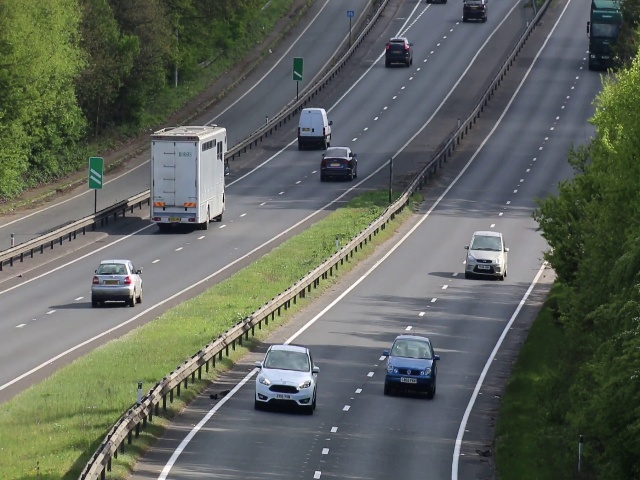car: (150, 124, 228, 230), (253, 343, 317, 411), (384, 331, 436, 400), (88, 258, 145, 308), (465, 229, 507, 281), (588, 3, 617, 69), (296, 108, 333, 149), (321, 145, 358, 183), (385, 37, 413, 68), (462, 1, 489, 23)
